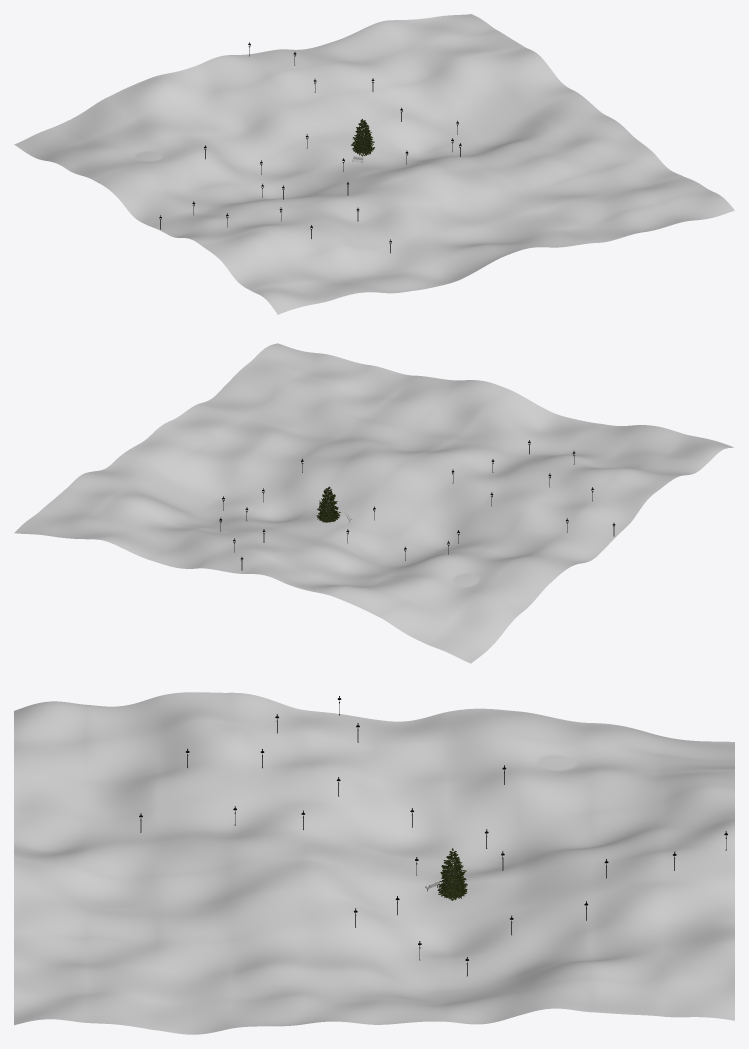
Rendered from Parco.gltf.
3 views of the same model, one above another, from view 1: azimuth 30°, elevation 25°; view 2: azimuth 150°, elevation 25°; view 3: azimuth 270°, elevation 25° (orthographic). The views are drawn at different scales.
Parts seen in each view (by area): view 1: Plane.001, Plane.002, Tree_Picea-abies_C_spring-summer-autumn.001; view 2: Plane.001, Plane.002, Tree_Picea-abies_C_spring-summer-autumn.001; view 3: Plane.001, Plane.002, Tree_Picea-abies_C_spring-summer-autumn.001.
Part boxes in pixels (box(x1,y1,x2,y2)): Plane.001: box(14, 14, 734, 314); Plane.002: box(301, 136, 420, 182); Tree_Picea-abies_C_spring-summer-autumn.001: box(351, 119, 374, 156); Plane.001: box(14, 343, 733, 663); Plane.002: box(288, 483, 408, 547); Tree_Picea-abies_C_spring-summer-autumn.001: box(316, 486, 340, 522); Plane.001: box(14, 692, 734, 1034); Plane.002: box(363, 856, 489, 922); Tree_Picea-abies_C_spring-summer-autumn.001: box(437, 848, 467, 900).
Size of the model in its own units: 85.95 by 9.66 by 85.95.
